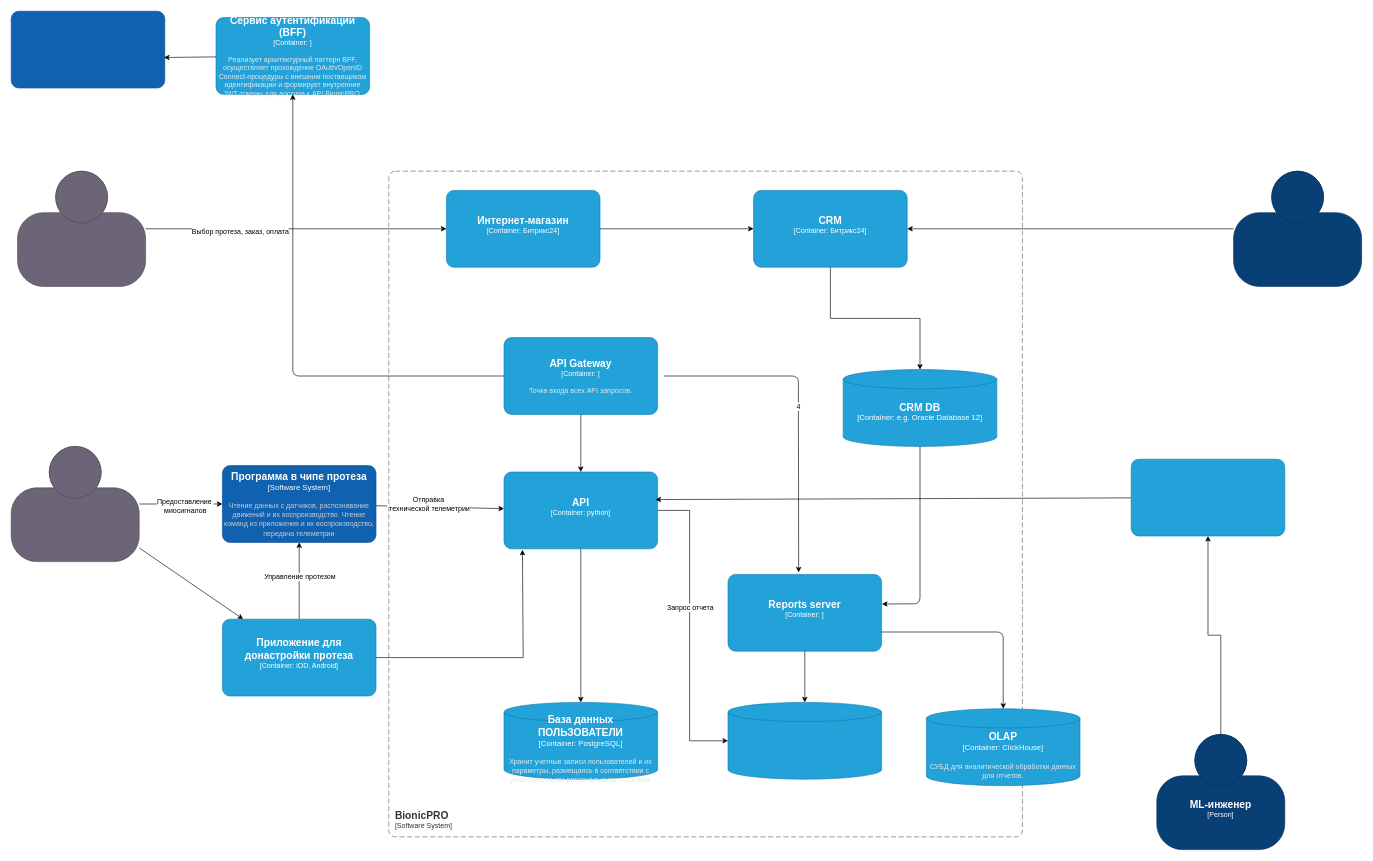
Image size: 1373x861. Some labels were removed from this diagram. The centre of each missing label's shape, as x and y in pixels:
cli tool [Container: e.g. SpringBoot, ElasticSearch, etc.]: the point at 1208,497
External Identity Provider (IdP) [Keycloak]: the point at 88,49
База данных Телеметрии [Container: PostgreSQL]: the point at 804,740
Оператор производства [Person]: the point at 1297,228
Пилот протеза [Person] С этого человека считываются данные: the point at 75,504
Покупатель протеза [Person]: the point at 81,228
